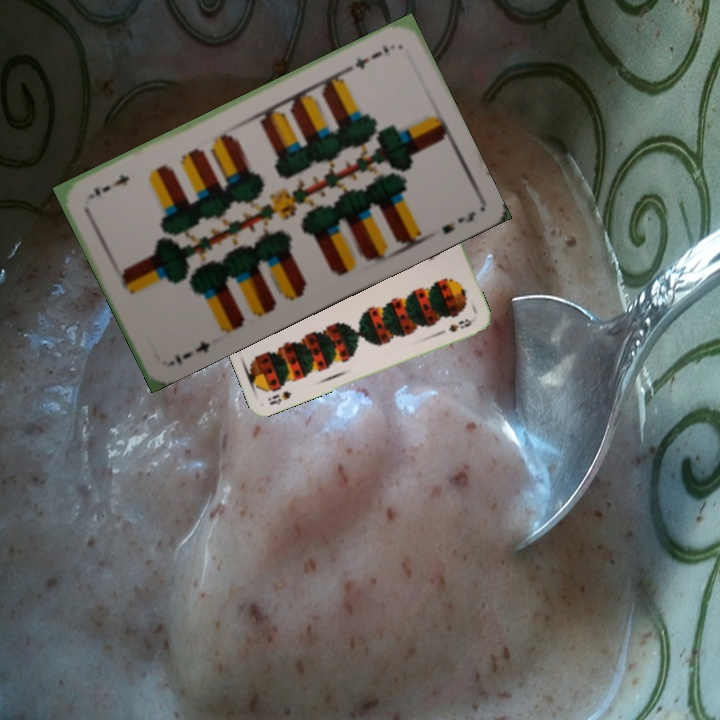E7: (344, 40, 392, 74), (170, 337, 213, 369)
S8: (264, 387, 294, 408)
